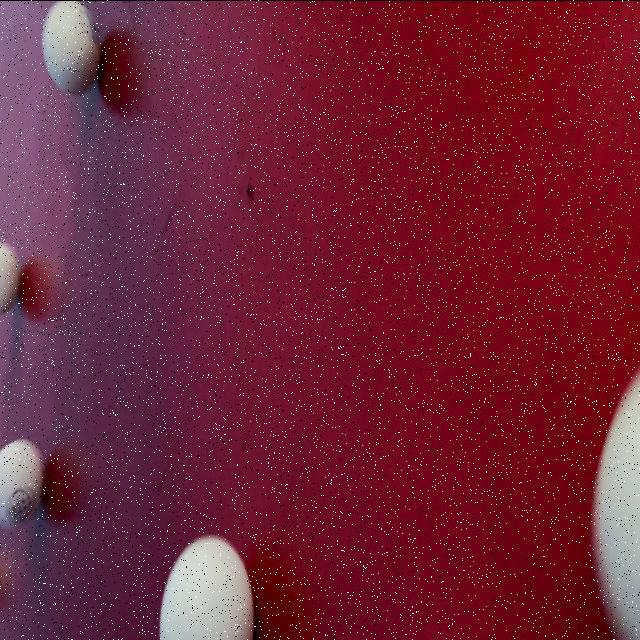ping-pong-ball: (570, 346, 640, 640), (156, 508, 266, 640), (32, 0, 111, 109), (0, 404, 57, 550), (0, 215, 32, 324)
